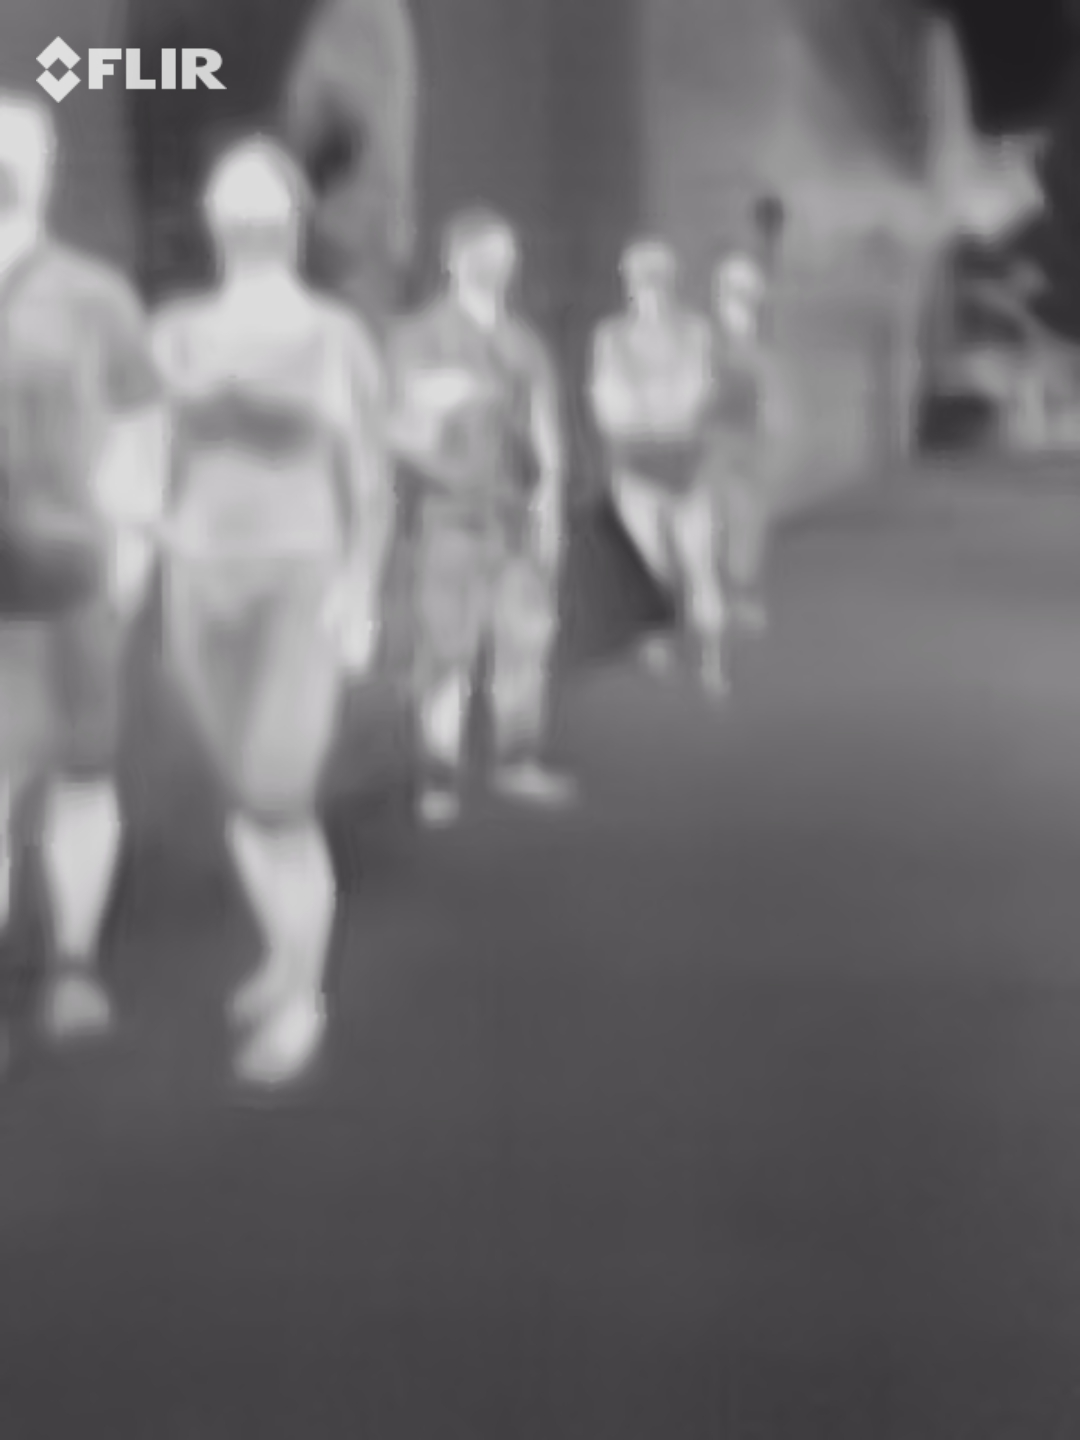head: (200, 134, 315, 287)
